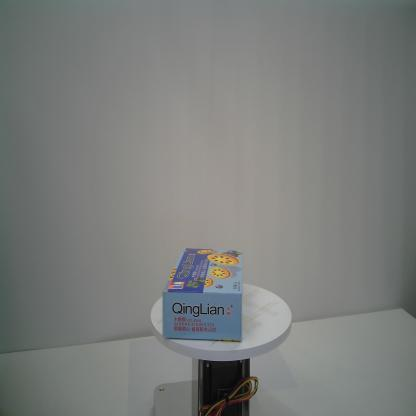Dessert: (162, 247, 244, 343)
